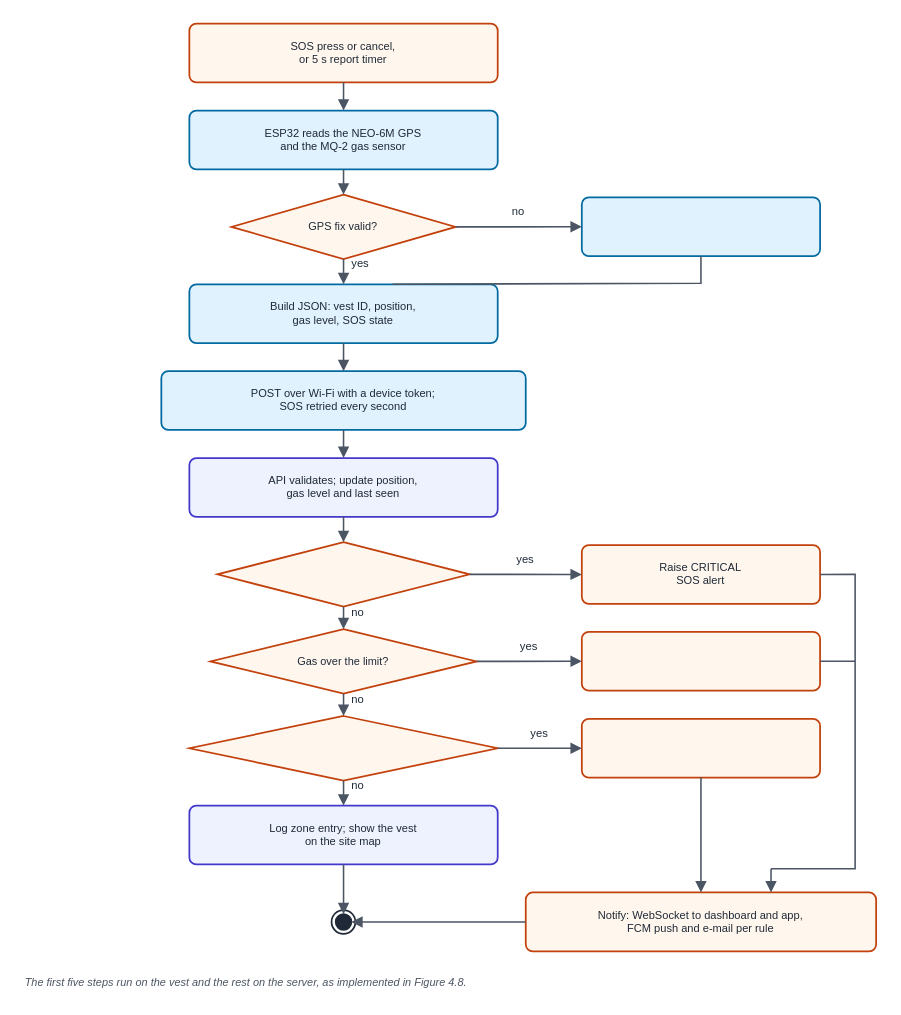
This 901x1015 diagram has some shape labels left out. The centre of each missing label's shape, as x and y in pixels:
"Inside a restricted zone?" belongs at (x=343, y=747).
"Raise CRITICAL GAS alert (once per leak)" belongs at (x=700, y=660).
"Raise ZONE_BREACH alert" belongs at (x=700, y=747).
"Send without a position" belongs at (x=700, y=226).
"SOS newly pressed?" belongs at (x=343, y=573).
